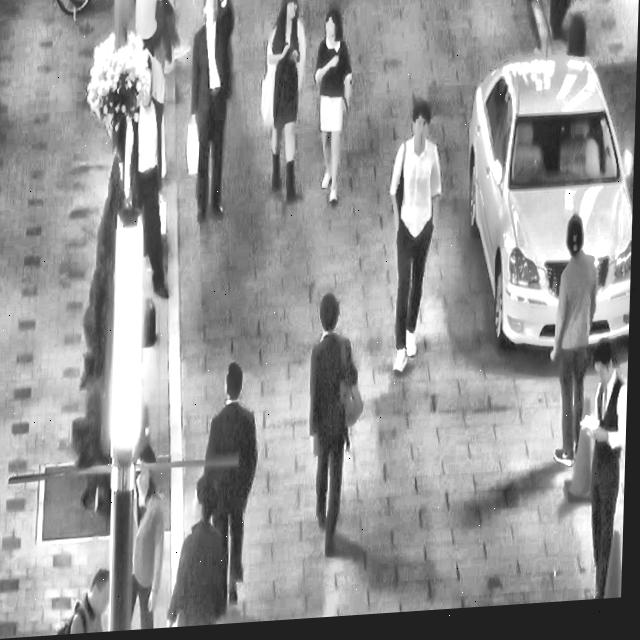light_vehicle: (459, 40, 638, 373)
